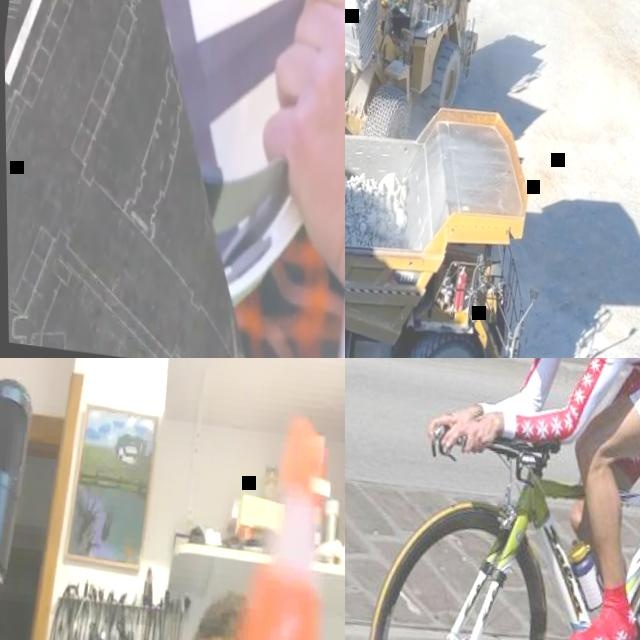Hardhat: (50, 0, 345, 318)
NO-Hardhat: (188, 586, 248, 640)
Person: (401, 358, 640, 640), (211, 0, 345, 358)
Safety Cone: (206, 396, 345, 640)
machinery: (345, 70, 562, 358), (345, 0, 490, 149)
